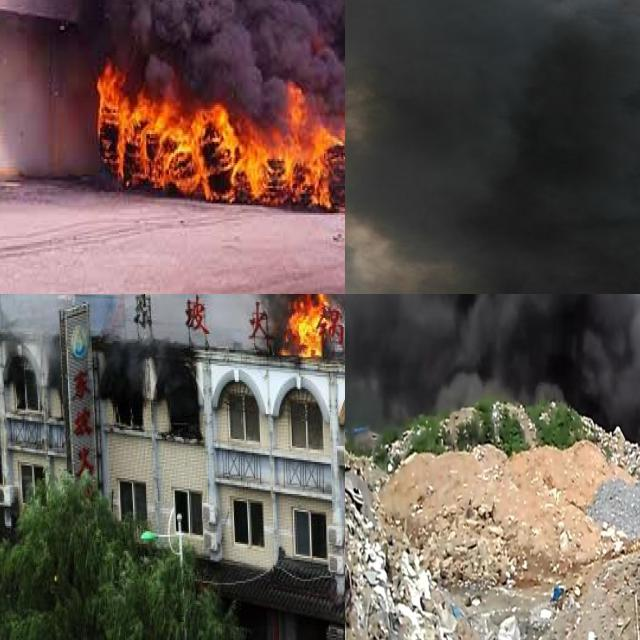fire: (84, 37, 345, 209), (281, 294, 332, 359)
smoke: (345, 0, 640, 294), (345, 294, 640, 440), (62, 0, 345, 76)
